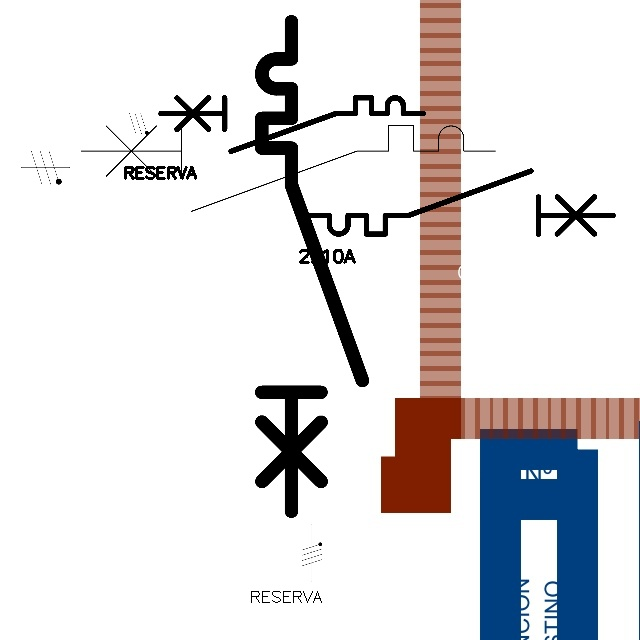interruptor_termomagnetico: (249, 9, 375, 523), (70, 115, 506, 221), (298, 163, 621, 242), (154, 91, 430, 158)
